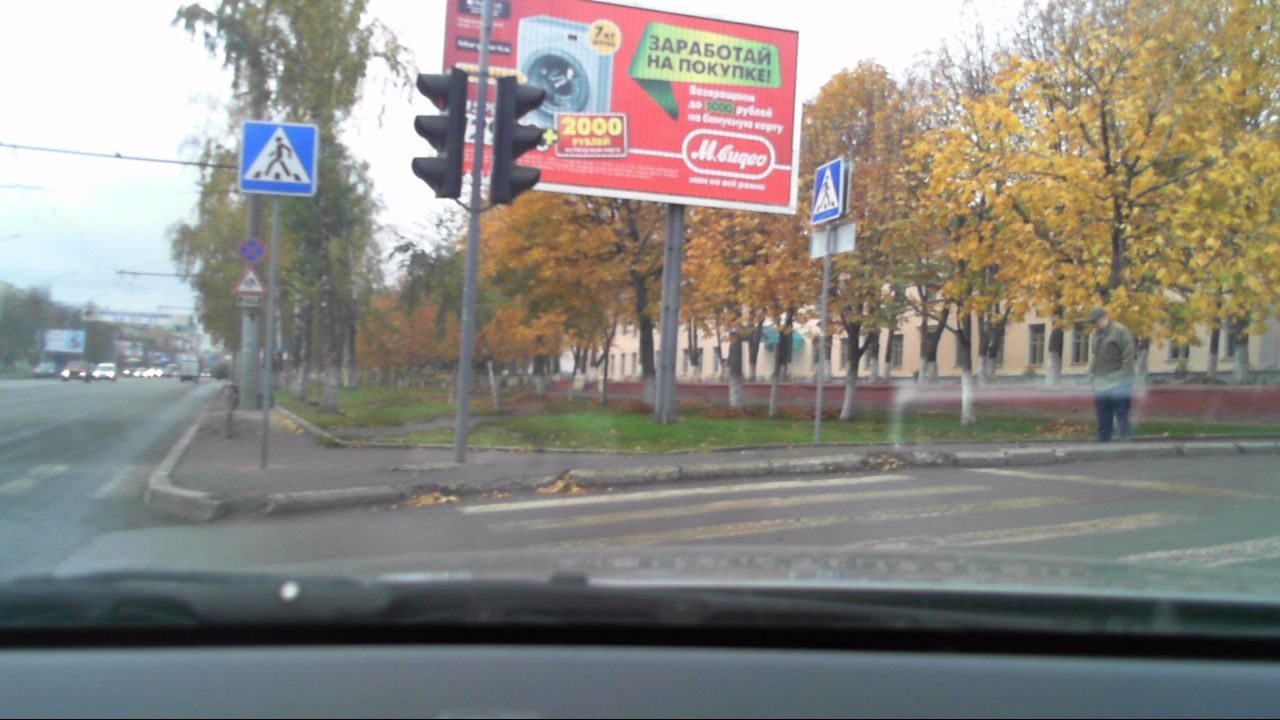No Parking: (240, 235, 268, 264)
